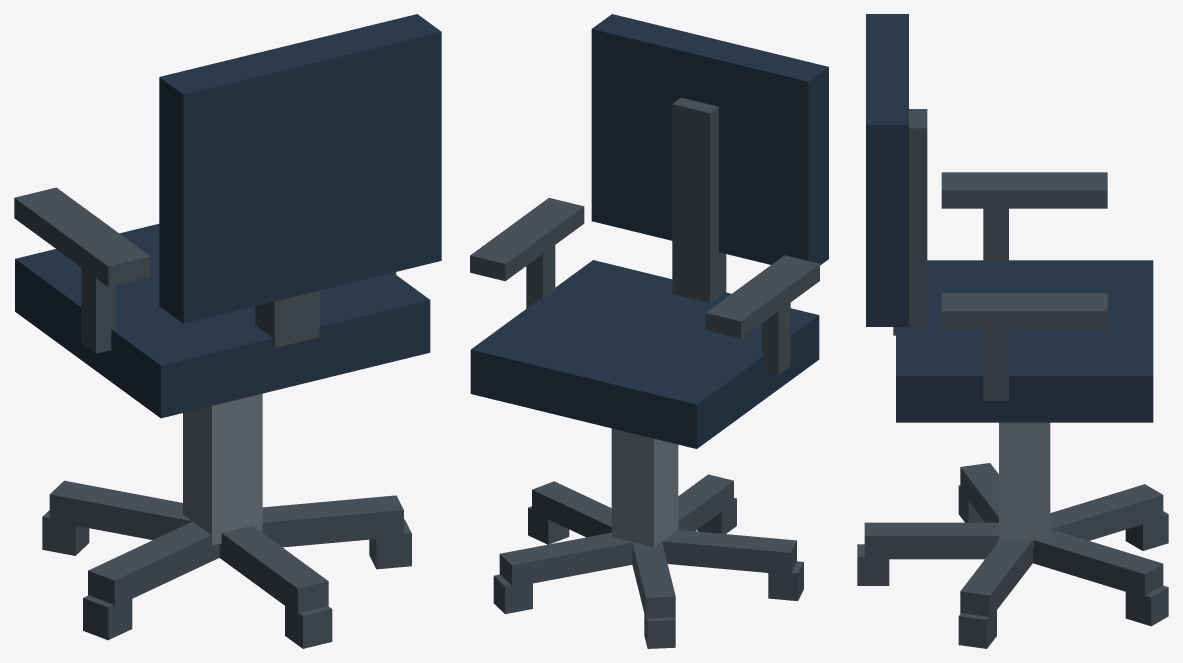
File: OfficeChair.obj
3 views of the same model, side by side, from view 1: azimuth 30°, elevation 25°; view 2: azimuth 150°, elevation 25°; view 3: azimuth 270°, elevation 25° (orthographic). The views are drawn at different scales.
Visible parts, largest first — view 1: OfficeChair; view 2: OfficeChair; view 3: OfficeChair.
Boxes of the visible parts, x1,y1,x2,y2 form: OfficeChair: (14,14,441,648); OfficeChair: (470,14,828,648); OfficeChair: (857,14,1168,648).
Bounding box in the file's own units: 0.575 × 0.985 × 0.5453.
Materials: 1 (1 with a texture image).
